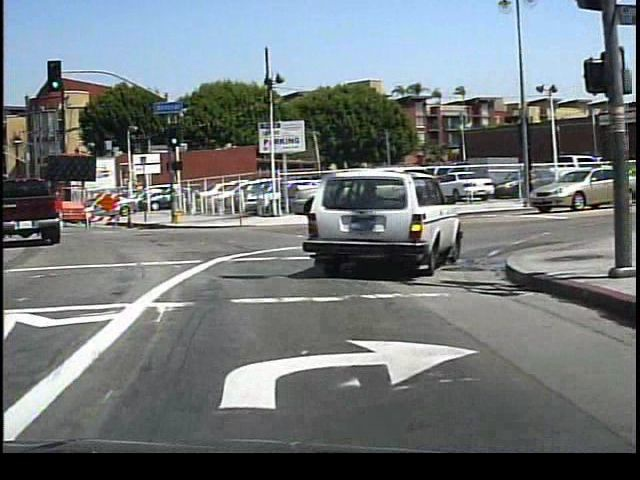person: (516, 162, 536, 206)
